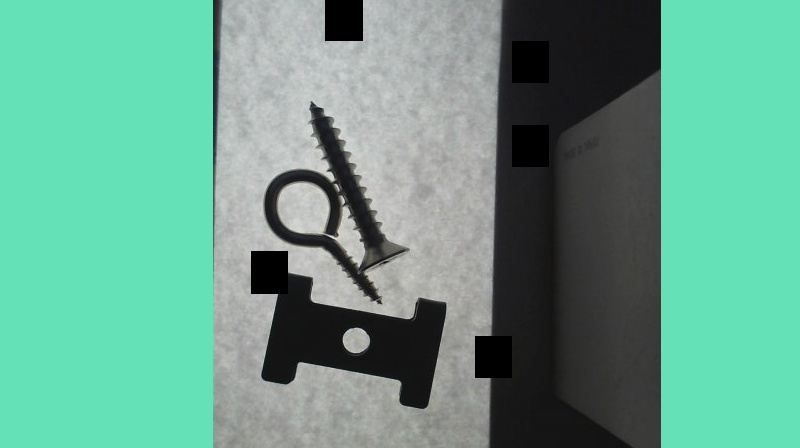O001: (261, 164, 387, 306)
O002: (260, 271, 448, 409)
S001: (305, 96, 410, 277)
